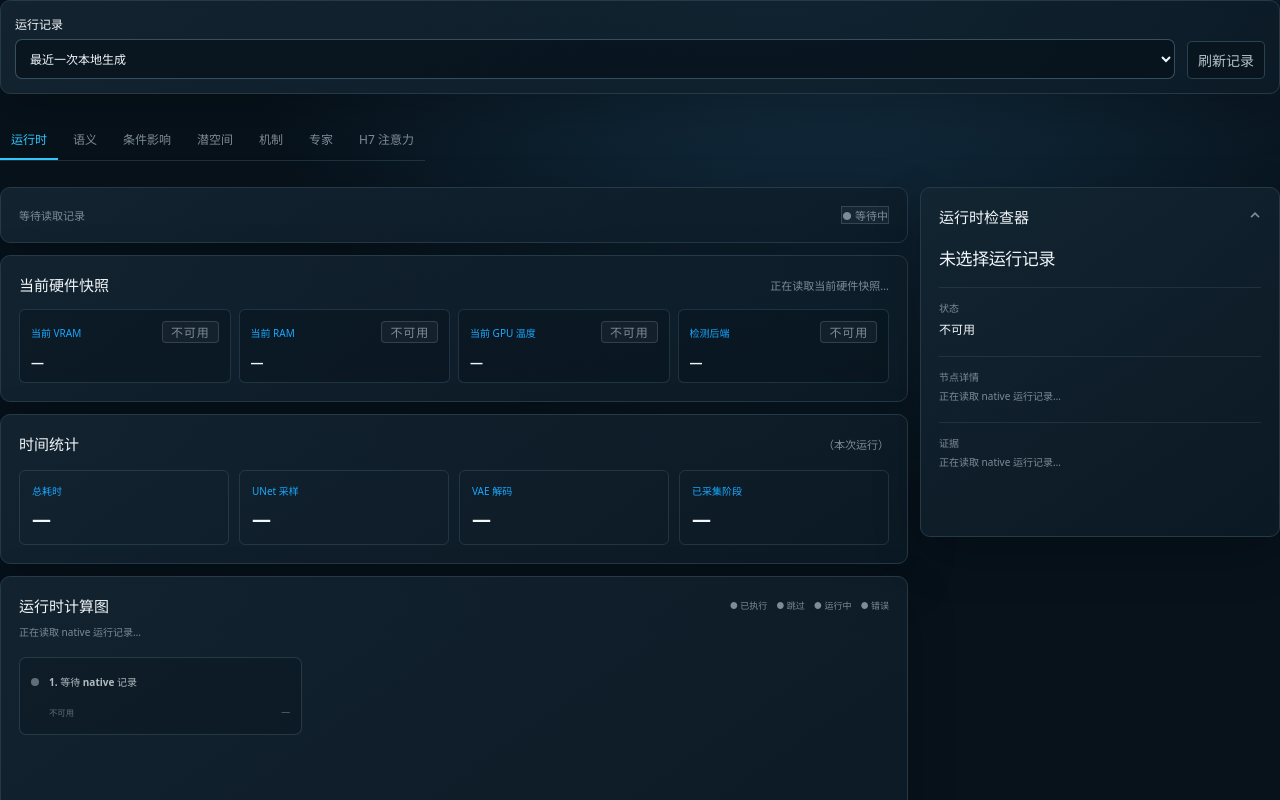
Test: Microscope route-specific capture guidance › explains missing visual capture in 语义 with regeneration advice
The width and height of the screenshot is (1280, 800).
Step 1. Click the tab "语义" → [85, 140], box left=62, top=120, right=108, bottom=160
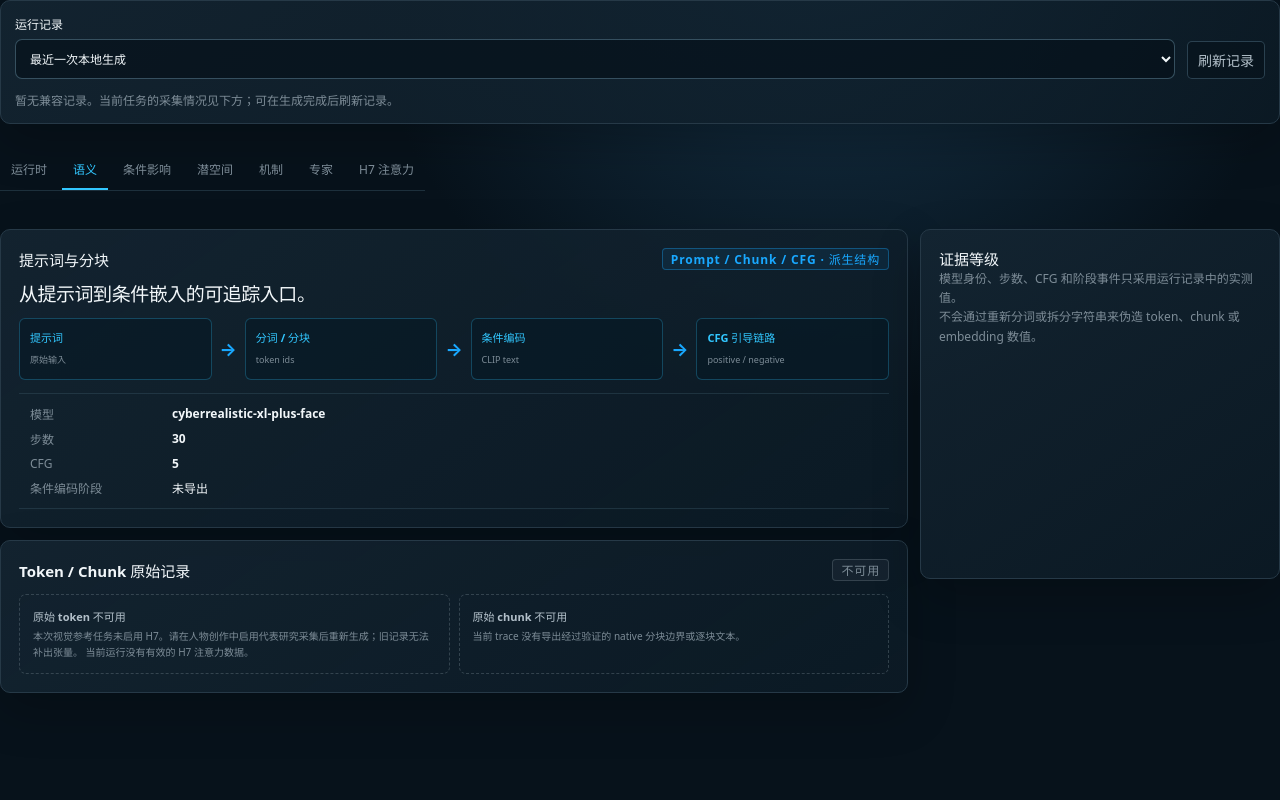
Expected: the text "本次视觉参考任务未启用" is shown, left=33, top=629, right=429, bottom=659
